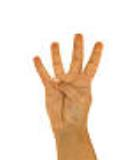right: (30, 32, 104, 128)
